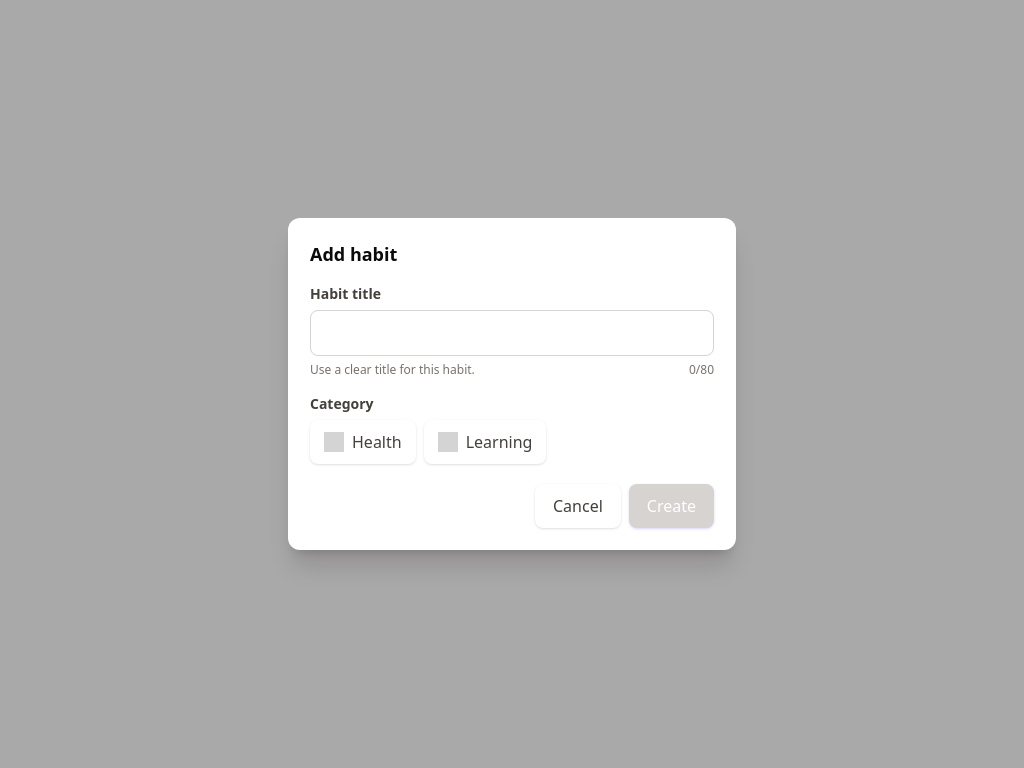
Test: HabitFormModal › keeps submit disabled until title and category are selected
The image size is (1024, 768).
Expected: the button "Create" is disabled, [629, 484, 714, 528]
Type "Read" into the field labelled "Habit title" at (512, 333), box [310, 310, 714, 356]
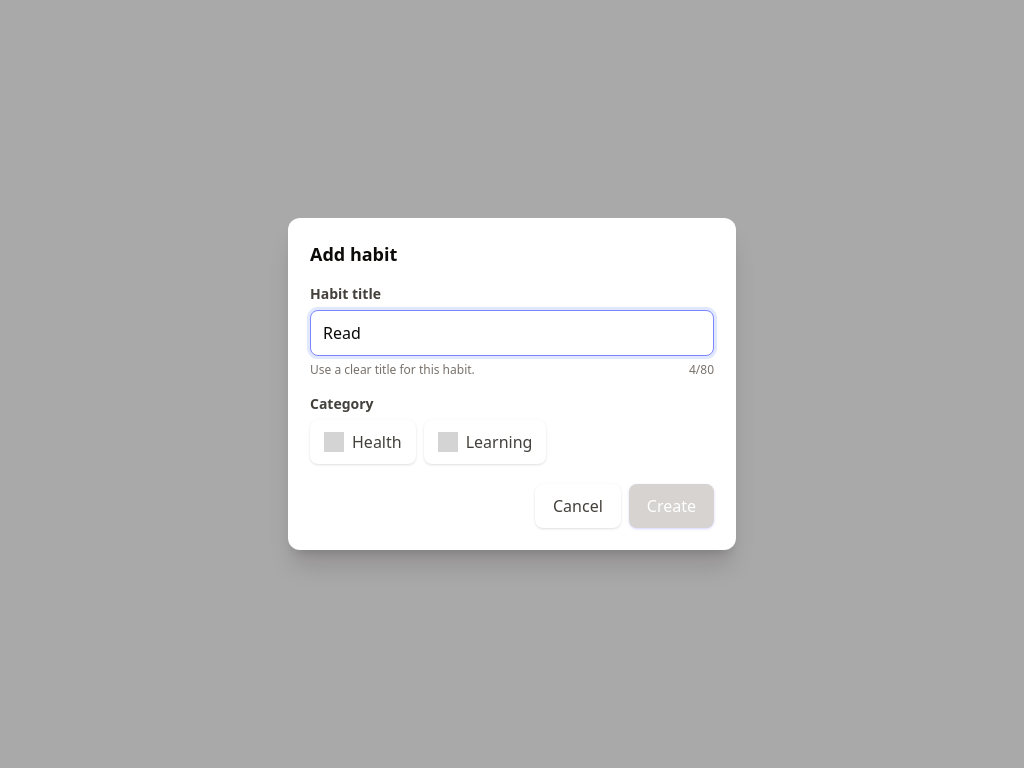
Expected: the button "Create" is disabled, [629, 484, 714, 528]
Click the button "Learning" at (485, 442), box [424, 420, 546, 464]
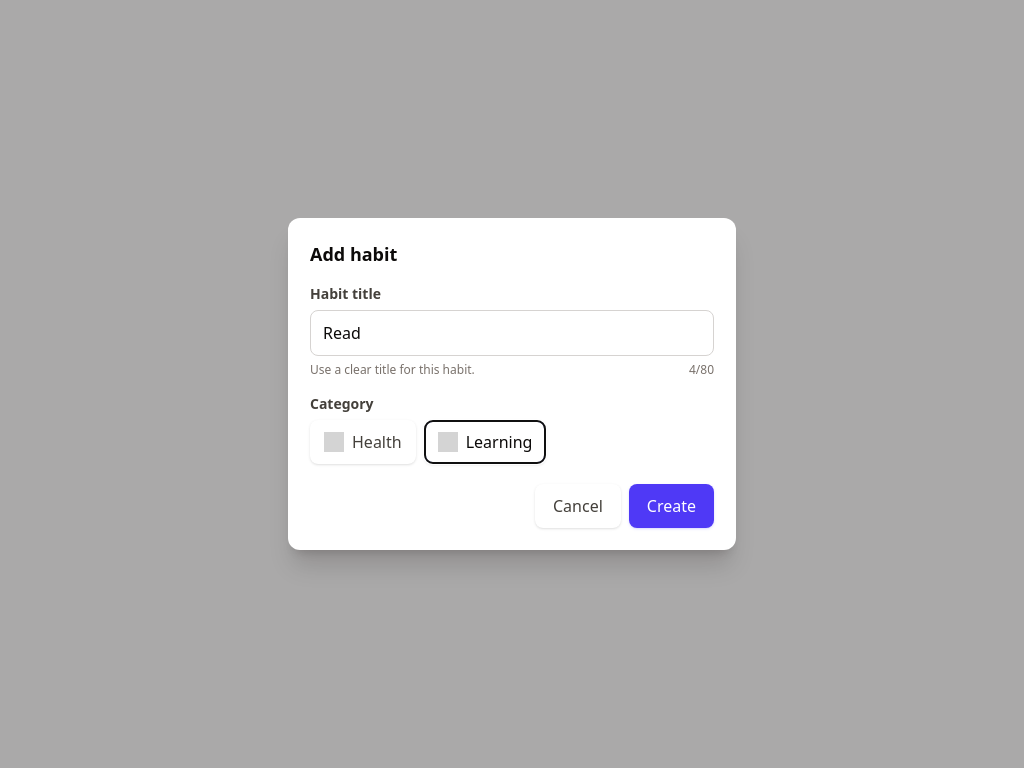
Expected: the button "Create" is enabled, [629, 484, 714, 528]
